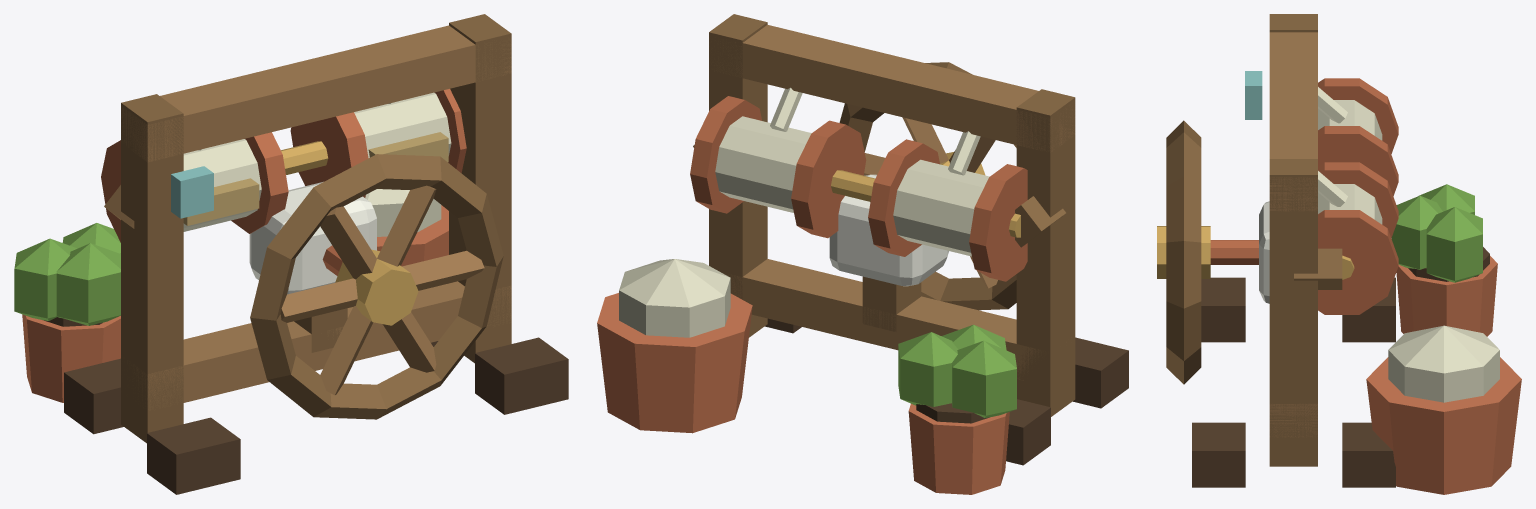
Rendered from spinner.glb.
3 views of the same model, side by side, from view 1: azimuth 30°, elevation 25°; view 2: azimuth 150°, elevation 25°; view 3: azimuth 270°, elevation 25° (orthographic). The views are drawn at different scales.
Parts seen in each view (by area): view 1: move_spin_drive, Spinner_frame_rail.001, Spinner_frame_post, Spinner_frame_post.001, Spinner_frame_rail, move_spin_bobbin_right, move_spin_bobbin_left, Spinner_timber_foot.002, Spinner_timber_foot, decor_Terracotta_planter, decor_Living_leaves.002, Spinner_ceramic_motor (+8 smaller); view 2: Spinner_frame_rail.001, Spinner_frame_post, move_spin_bobbin_right, Spinner_flax_basket, move_spin_bobbin_left, Spinner_frame_rail, Spinner_frame_post.001, Spinner_flax_bundle, decor_Terracotta_planter, move_spin_drive, Spinner_ceramic_motor, decor_Living_leaves (+10 smaller); view 3: Spinner_frame_post.001, Spinner_flax_basket, move_spin_drive, move_spin_bobbin_right, Spinner_frame_rail.001, Spinner_flax_bundle, move_spin_bobbin_left, decor_Terracotta_planter, decor_Living_leaves.001, Spinner_timber_foot.002, Spinner_timber_foot.003, Spinner_timber_foot (+11 smaller).
Part boxes in pixels (<box>): move_spin_drive: <box>250,154,503,419</box>; Spinner_frame_rail.001: <box>121,25,511,162</box>; Spinner_frame_post: <box>121,94,183,443</box>; Spinner_frame_post.001: <box>449,14,511,363</box>; Spinner_frame_rail: <box>127,281,511,410</box>; move_spin_bobbin_right: <box>290,89,466,197</box>; move_spin_bobbin_left: <box>101,132,288,242</box>; Spinner_timber_foot.002: <box>475,337,568,414</box>; Spinner_timber_foot: <box>147,417,240,494</box>; decor_Terracotta_planter: <box>22,314,120,402</box>; decor_Living_leaves.002: <box>56,243,120,325</box>; Spinner_ceramic_motor: <box>249,181,376,294</box>; Spinner_frame_rail.001: <box>709,24,1075,152</box>; Spinner_frame_post: <box>1016,89,1075,416</box>; move_spin_bobbin_right: <box>690,96,866,238</box>; Spinner_flax_basket: <box>597,293,752,433</box>; move_spin_bobbin_left: <box>868,139,1027,281</box>; Spinner_frame_rail: <box>723,259,1071,380</box>; Spinner_frame_post.001: <box>709,14,767,337</box>; Spinner_flax_bundle: <box>619,259,730,337</box>; decor_Terracotta_planter: <box>908,404,1009,494</box>; move_spin_drive: <box>839,62,1016,310</box>; Spinner_ceramic_motor: <box>829,174,948,286</box>; decor_Living_leaves: <box>952,340,1016,417</box>; Spinner_frame_post.001: <box>1269,159,1317,466</box>; Spinner_flax_basket: <box>1366,357,1521,494</box>; move_spin_drive: <box>1157,120,1210,384</box>; move_spin_bobbin_right: <box>1318,162,1398,314</box>; Spinner_frame_rail.001: <box>1269,32,1317,211</box>; Spinner_flax_bundle: <box>1388,325,1499,402</box>; move_spin_bobbin_left: <box>1318,78,1398,195</box>; decor_Terracotta_planter: <box>1396,256,1497,336</box>; decor_Living_leaves.001: <box>1426,207,1482,282</box>; Spinner_timber_foot.002: <box>1192,422,1245,487</box>; Spinner_timber_foot.003: <box>1342,422,1395,487</box>; Spinner_timber_foot: <box>1201,277,1245,342</box>.
Size of the model in its own units: 1.72 by 1.26 by 1.36.
